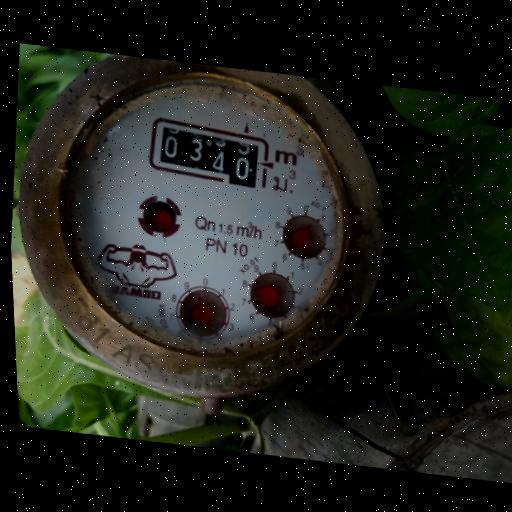0: (225, 140, 260, 187), (158, 127, 186, 166)
3: (179, 131, 209, 169)
4: (201, 135, 234, 175)
border_water_meter_number: (143, 114, 275, 190)
